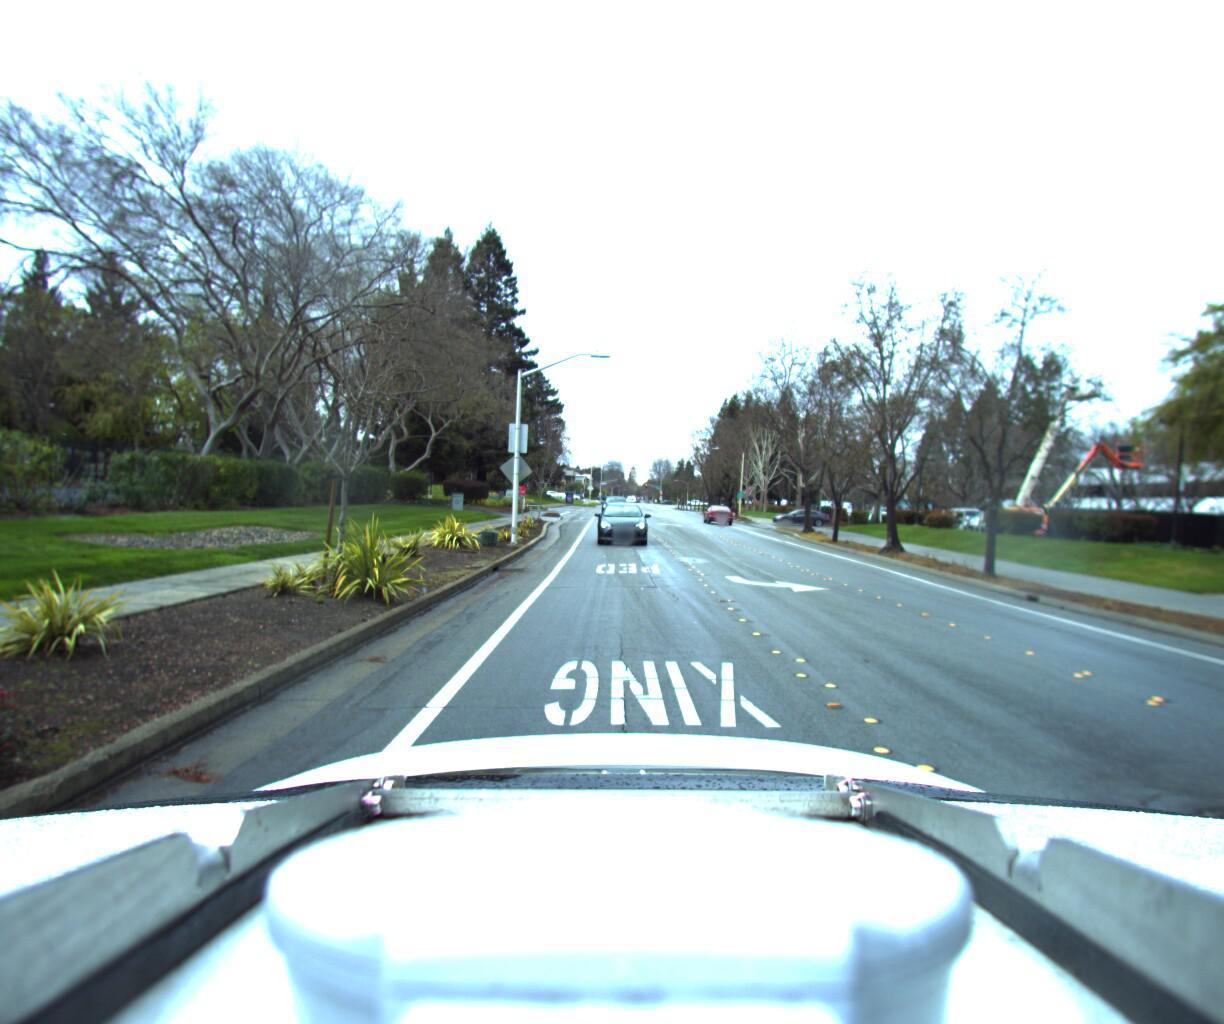car: (591, 493, 649, 543), (770, 501, 829, 522), (699, 497, 732, 520)
